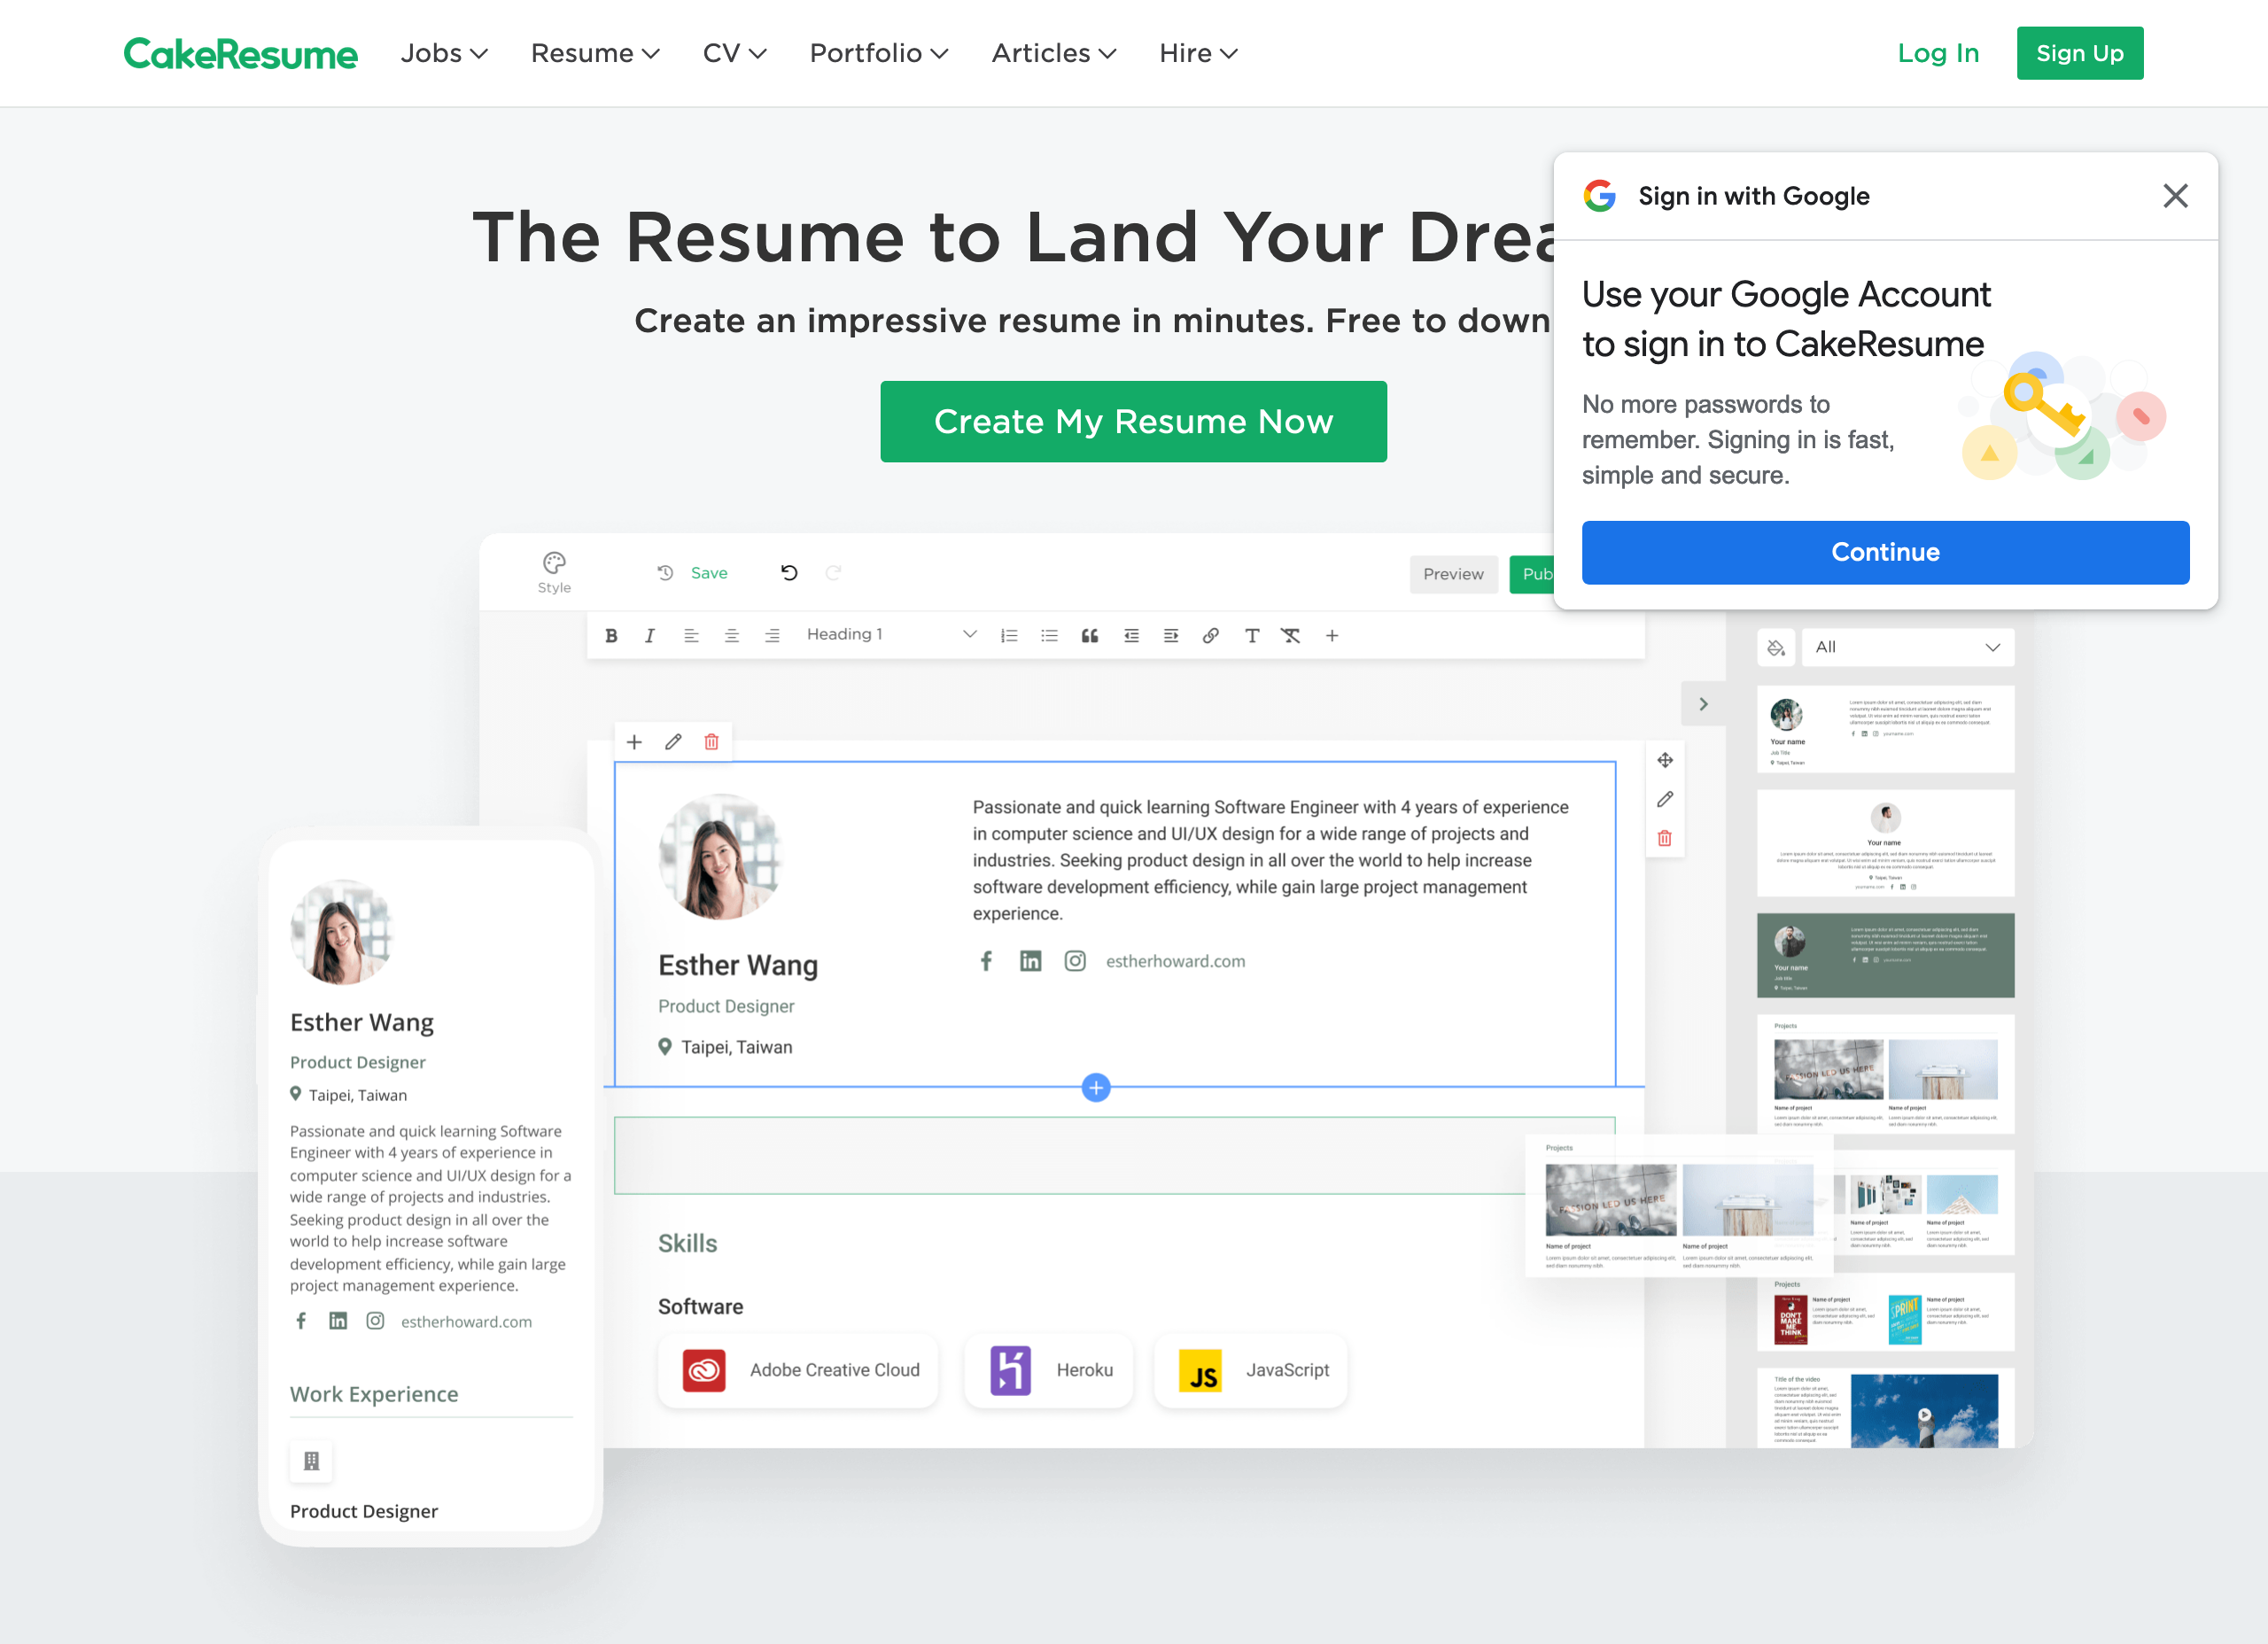Login: (1879, 23, 1997, 79)
